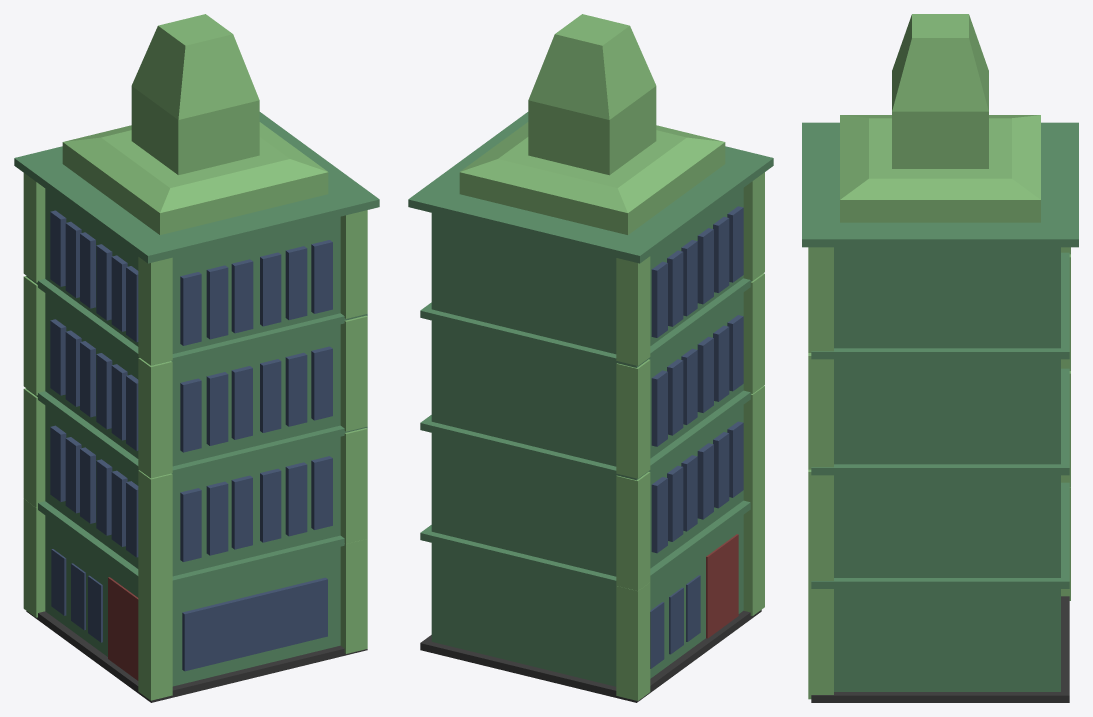
The model's file is block4.fbx.
3 renders of one model, left to right at view 1: azimuth 30°, elevation 25°; view 2: azimuth 150°, elevation 25°; view 3: azimuth 270°, elevation 25°, orthographic. The views are drawn at different scales.
Visible parts, largest first — view 1: Block2.002, Block2, Block1, Block2.001, Stozek, Block2.003, Block2.004, Ground; view 2: Block2.002, Block1, Block2, Stozek, Block2.001, Block2.003, Block2.004, Ground; view 3: Block2.002, Block2.001, Stozek, Block2, Block1, Ground.
Boxes of the visible parts, left/top/right/bottom form: Block2.002: left=14, top=112, right=379, bottom=365; Block2: left=23, top=388, right=367, bottom=590; Block1: left=23, top=499, right=367, bottom=700; Block2.001: left=23, top=276, right=367, bottom=478; Stozek: left=62, top=14, right=328, bottom=234; Block2.003: left=50, top=319, right=138, bottom=450; Block2.004: left=50, top=210, right=138, bottom=342; Ground: left=26, top=611, right=367, bottom=702; Block2.002: left=408, top=112, right=773, bottom=365; Block1: left=420, top=497, right=764, bottom=700; Block2: left=420, top=385, right=764, bottom=590; Stozek: left=459, top=14, right=725, bottom=234; Block2.001: left=420, top=273, right=764, bottom=478; Block2.003: left=651, top=315, right=743, bottom=446; Block2.004: left=651, top=206, right=743, bottom=337; Ground: left=420, top=610, right=761, bottom=702; Block2.002: left=802, top=122, right=1078, bottom=352; Block2.001: left=808, top=252, right=1070, bottom=469; Stozek: left=840, top=14, right=1040, bottom=222; Block2: left=808, top=368, right=1070, bottom=585; Block1: left=808, top=482, right=1070, bottom=699; Ground: left=811, top=596, right=1069, bottom=702.
Bounding box in the file's own units: 229 × 568 × 229.
